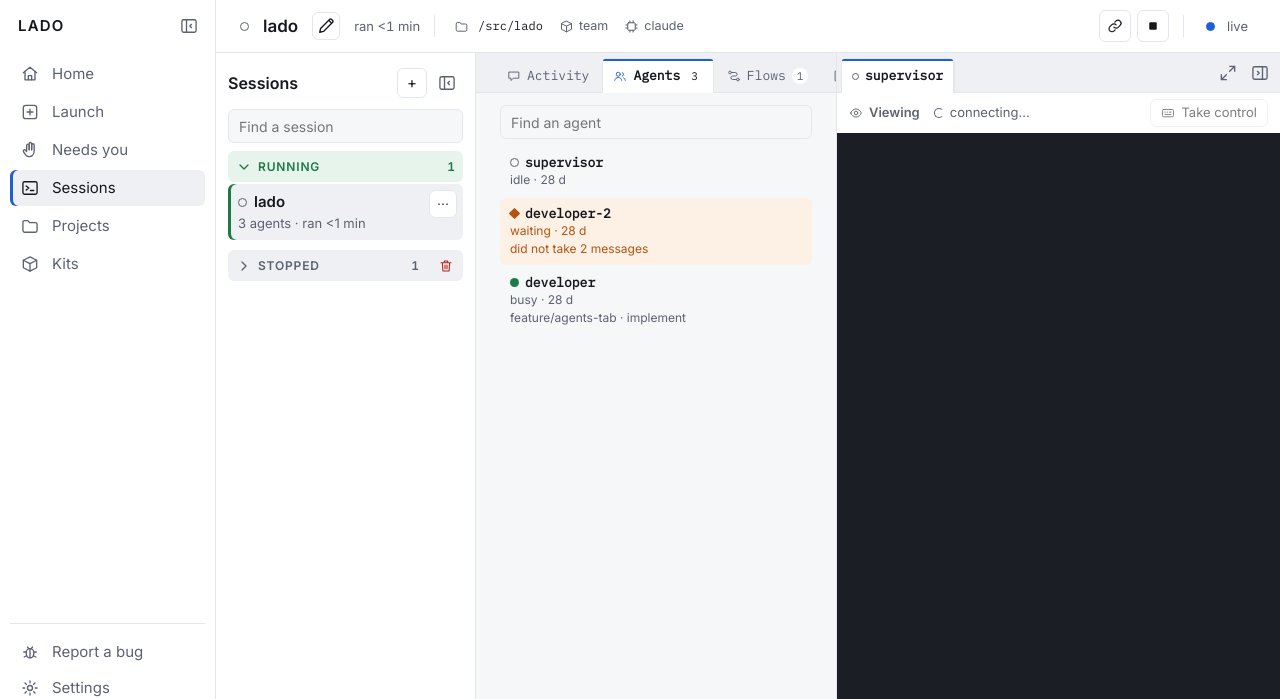
Scenario: in a column narrower than 900 px the list takes it without an agent, an agent's page has the way back
The width and height of the screenshot is (1280, 699).
Step 1. Click the link "developer-2 waiting · 28 d did not take 2 messages" → (568, 214), box [500,198,812,265]
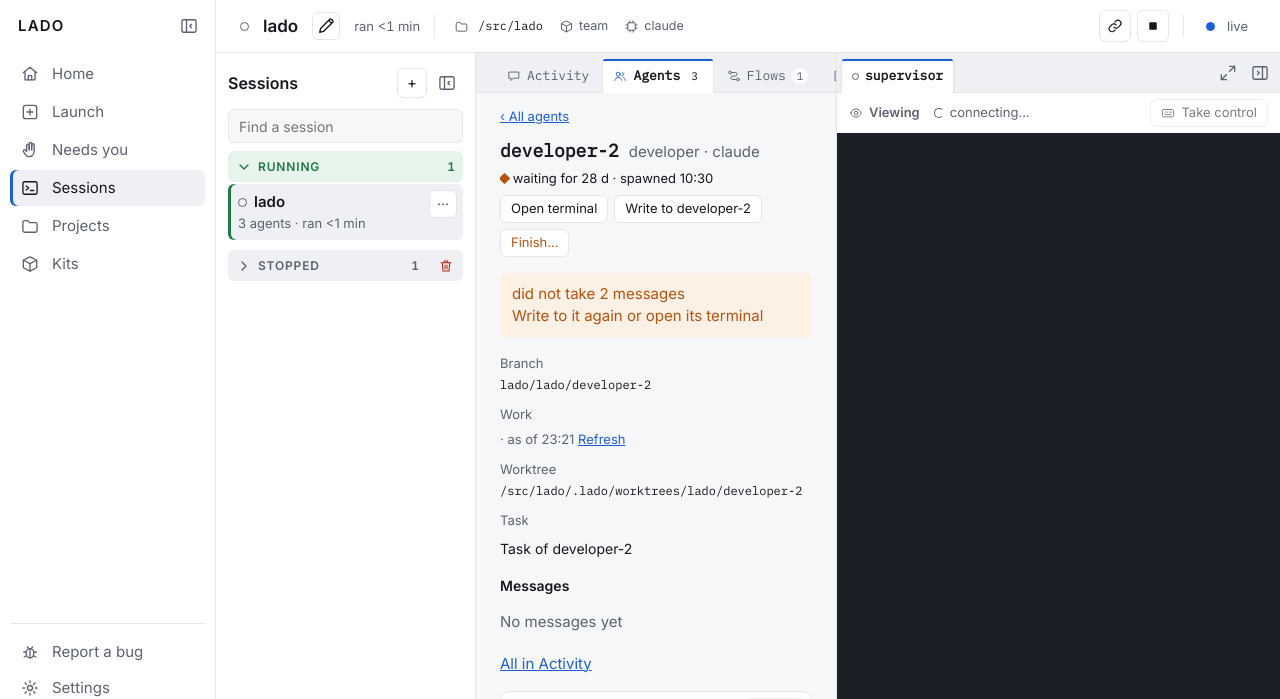
Step 2. Click the link "‹ All agents" → (535, 117), box [500,107,569,126]
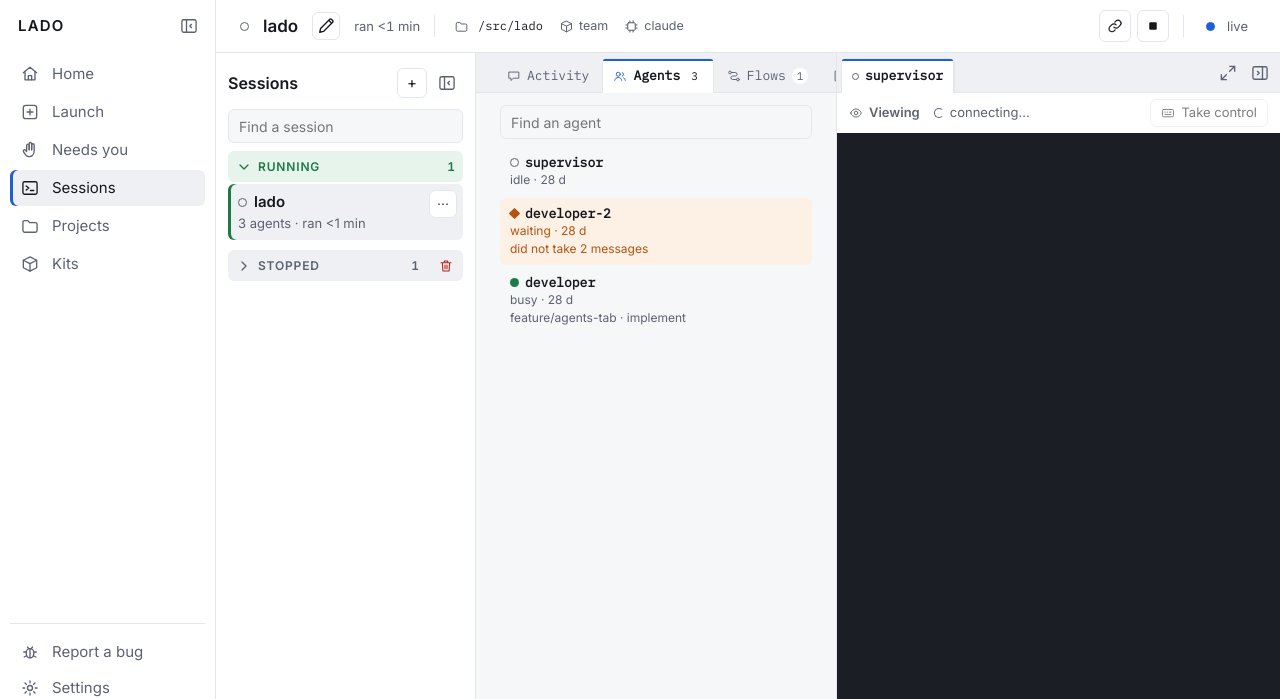
Expected: the navigation bar named "Agents" is shown, [500,154,812,325]
